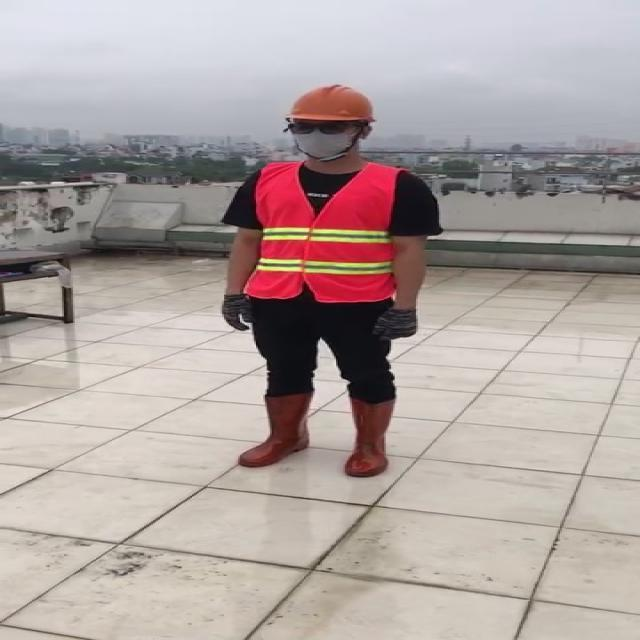gloves: (372, 296, 427, 342), (212, 290, 260, 334)
helmet: (280, 80, 383, 132)
safety_vest: (252, 156, 398, 302)
